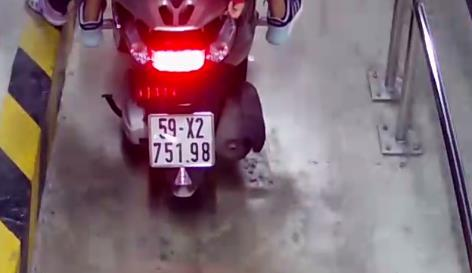lisence: (147, 111, 217, 168)
